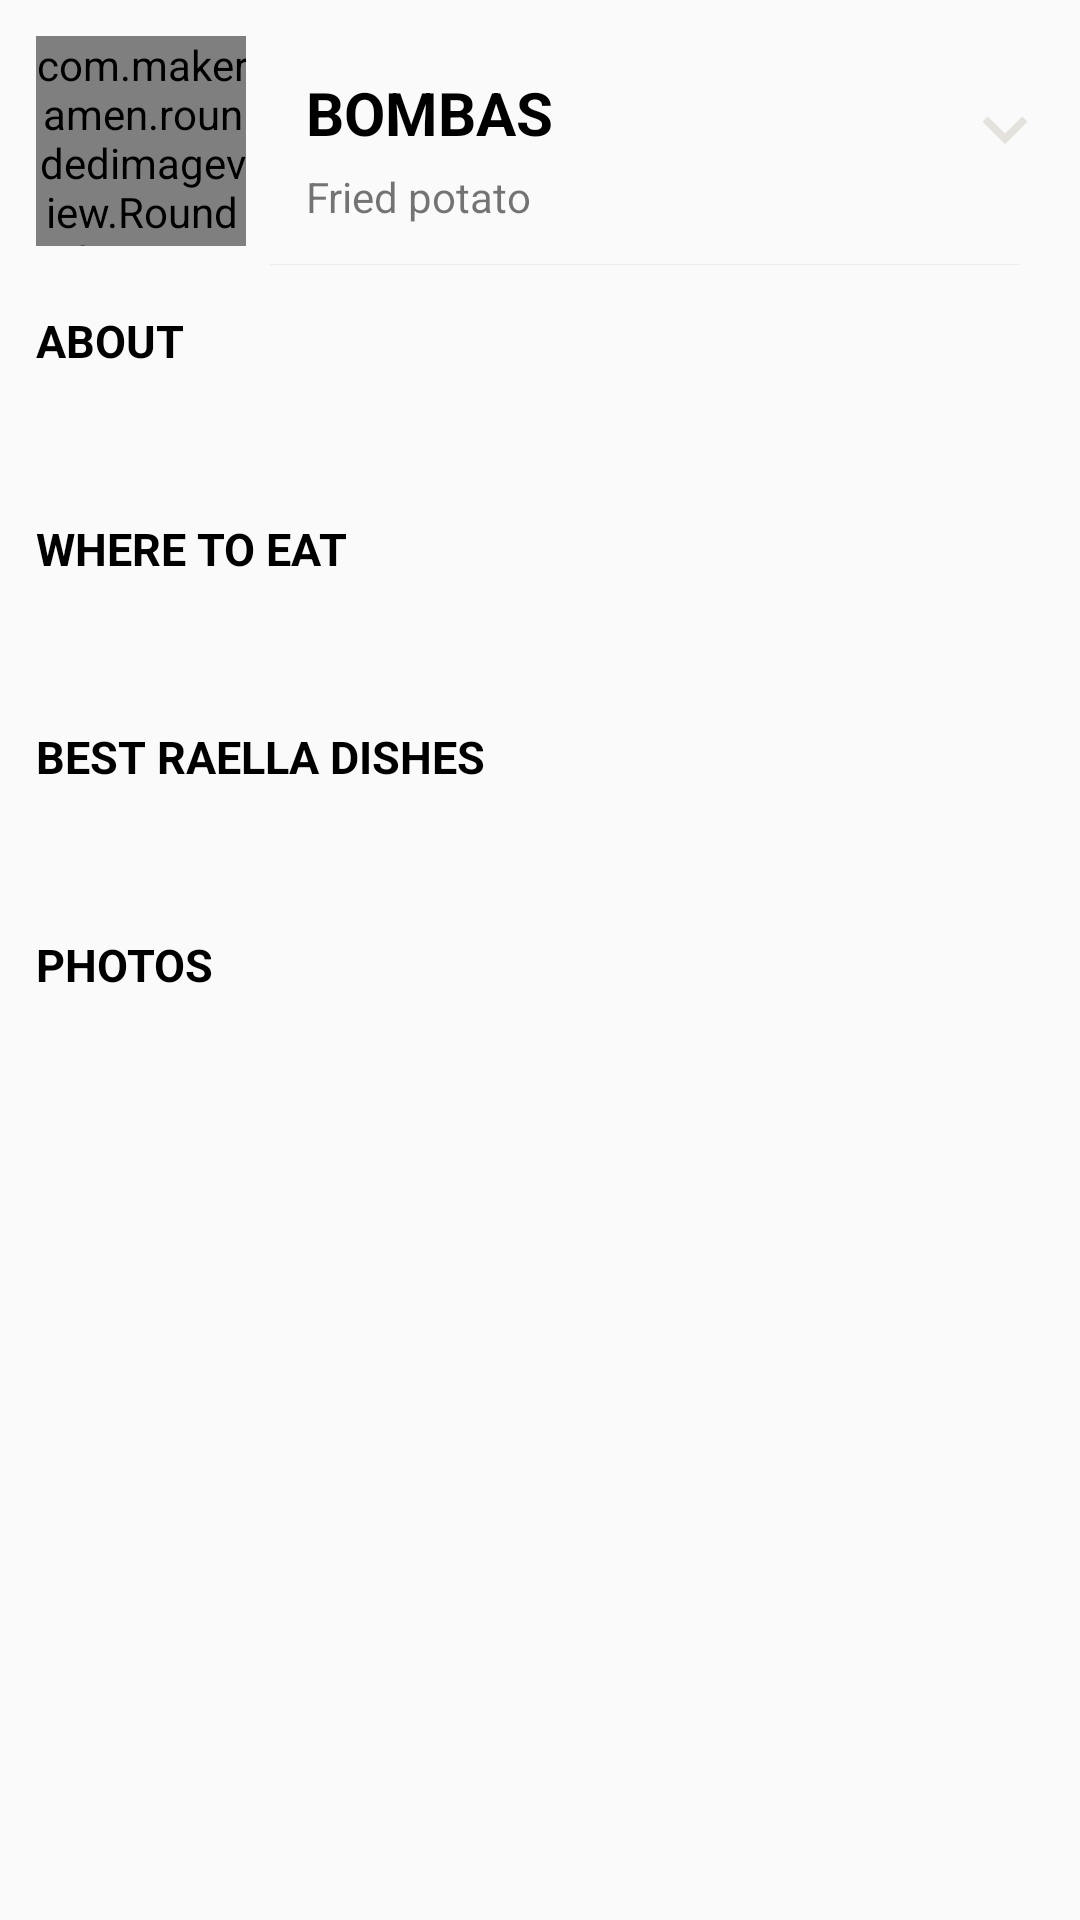

Screen size 1080 × 1920. Icon name, then its box in pixels as (x1, y1, x2, y2):
down: (983, 117, 1027, 143)
